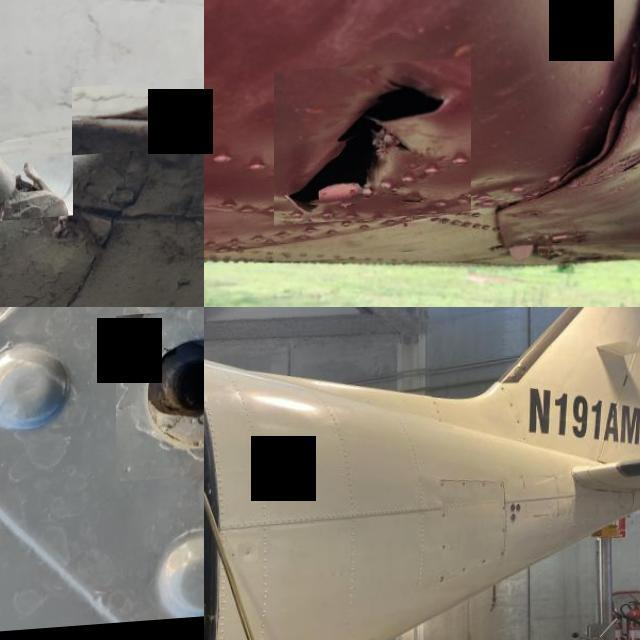Crack: (274, 64, 471, 230), (72, 84, 204, 161), (0, 142, 73, 225)
Dent: (238, 544, 258, 566)
Missing_Fastener: (116, 310, 204, 486)
